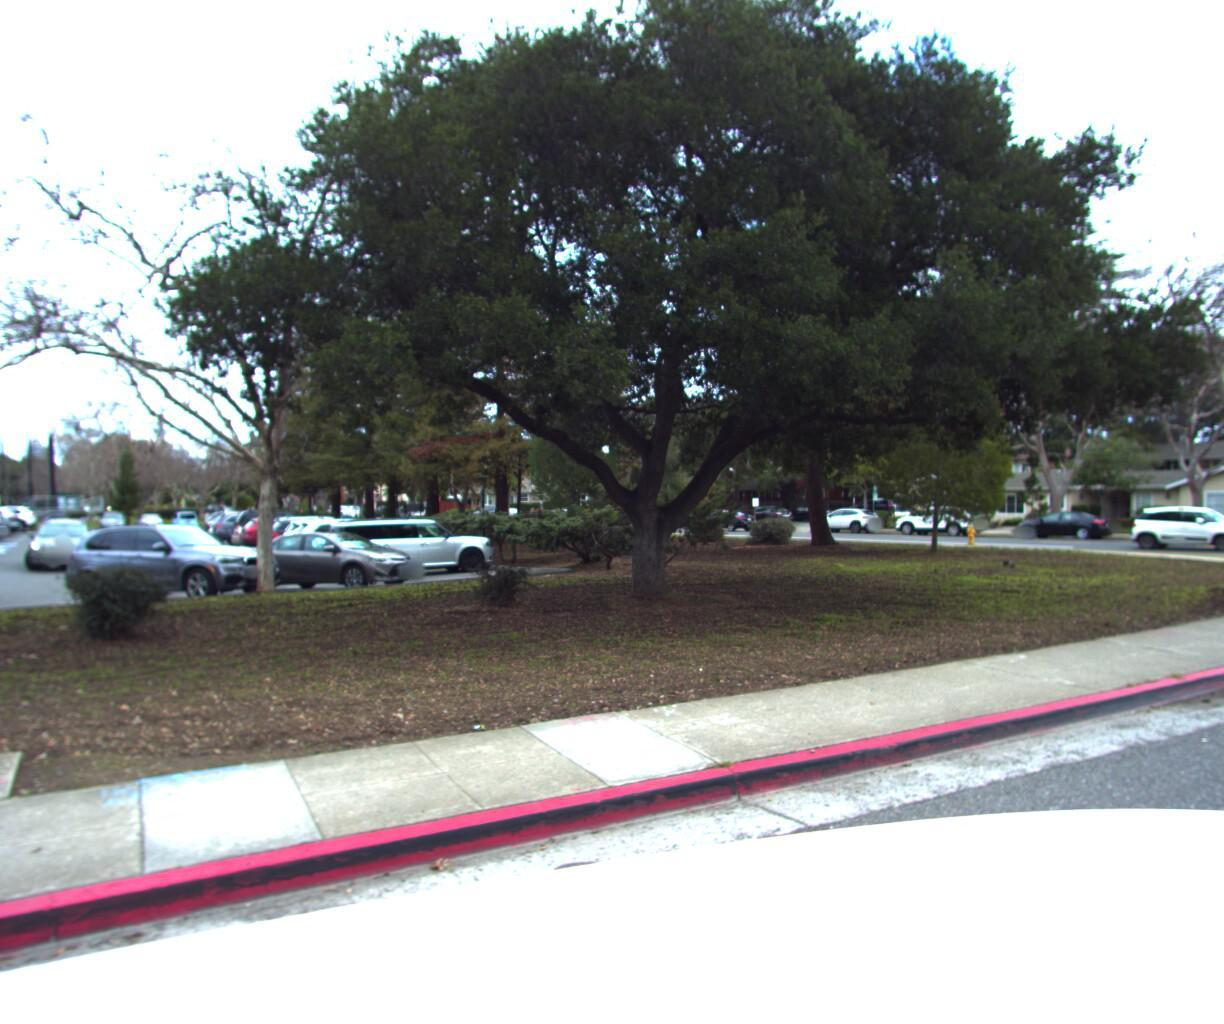car: (1129, 500, 1224, 547), (1015, 503, 1125, 536), (895, 497, 997, 532), (812, 500, 888, 527), (697, 497, 764, 522)
